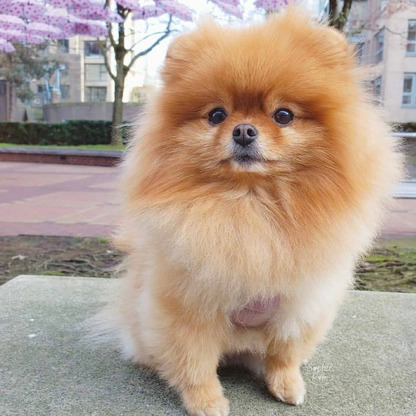Pomeranian: (101, 15, 397, 405)
